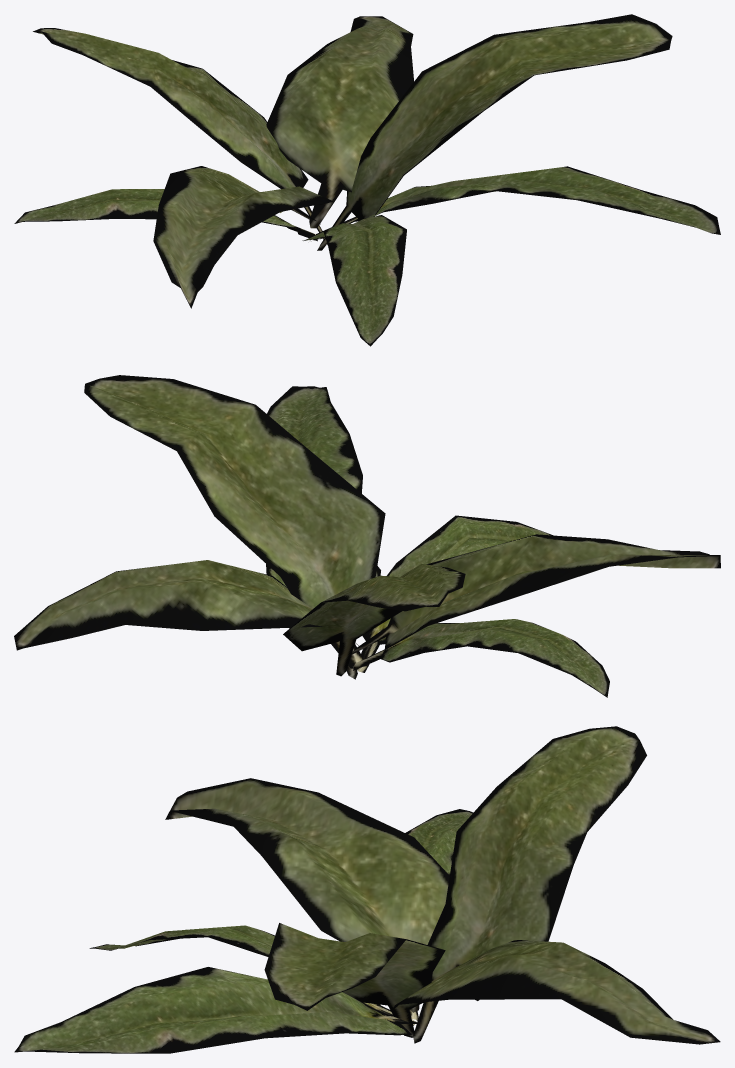
Rendered from flower_gazania_0.gltf.
3 renders of one model, top to bottom at view 1: azimuth 30°, elevation 25°; view 2: azimuth 150°, elevation 25°; view 3: azimuth 270°, elevation 25°, orthographic. The views are drawn at different scales.
Parts seen in each view (by area): view 1: flower_gazania_a_LOD0; view 2: flower_gazania_a_LOD0; view 3: flower_gazania_a_LOD0.
Part boxes in pixels (x1,y1,x2,y2): flower_gazania_a_LOD0: (14,14,720,346); flower_gazania_a_LOD0: (14,375,720,697); flower_gazania_a_LOD0: (14,726,720,1053).
Size of the model in its own units: 0.1382 by 0.0445 by 0.1333.
Materials: 1 (1 with a texture image).
